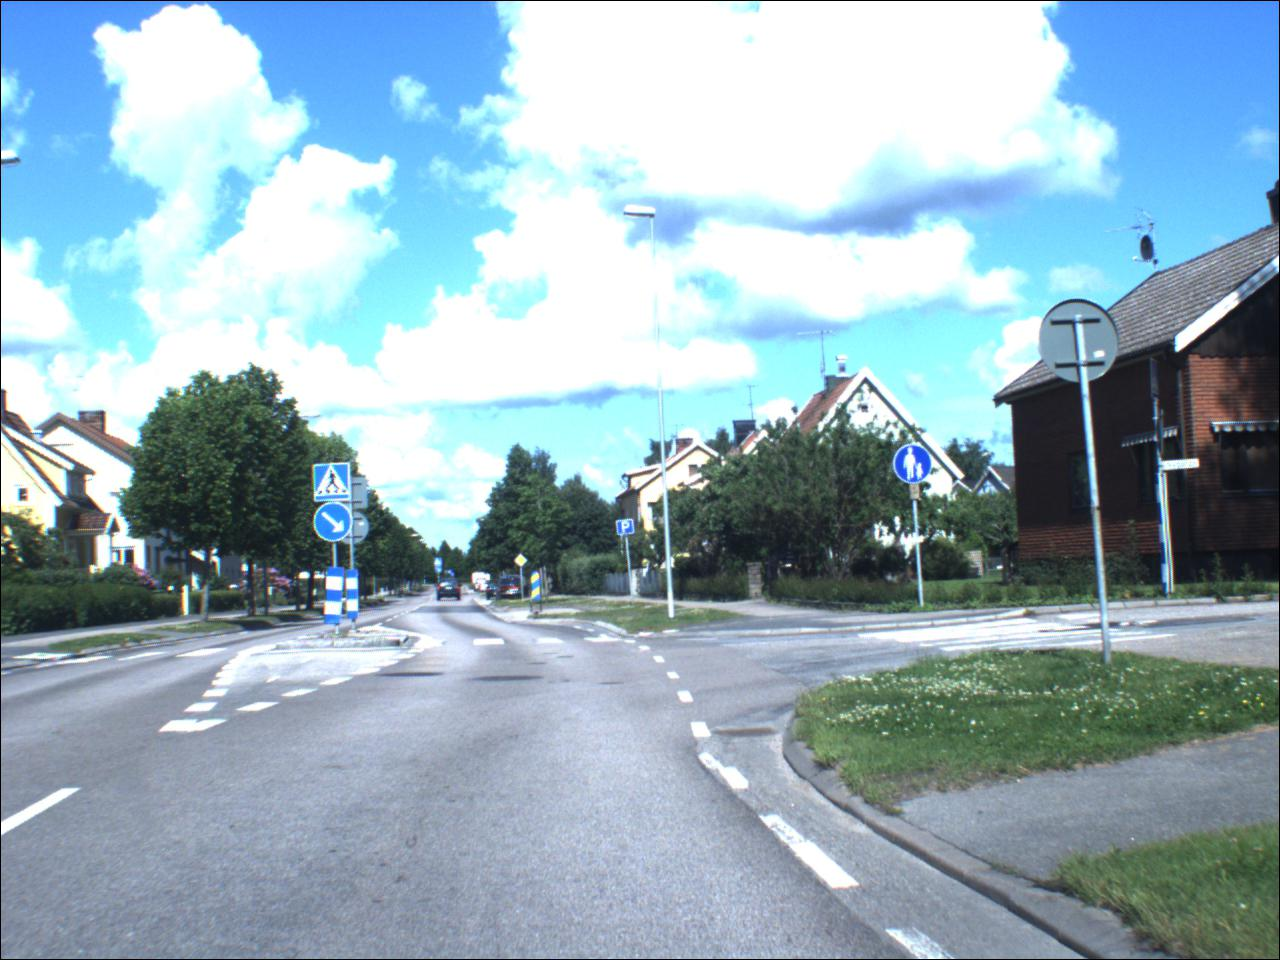PASS_RIGHT_SIDE: (315, 503, 356, 544), (437, 568, 444, 576)
PEDESTRIAN_CROSSING: (315, 465, 354, 504), (436, 559, 445, 569)
PRIORITY_ROAD: (516, 556, 531, 570)
